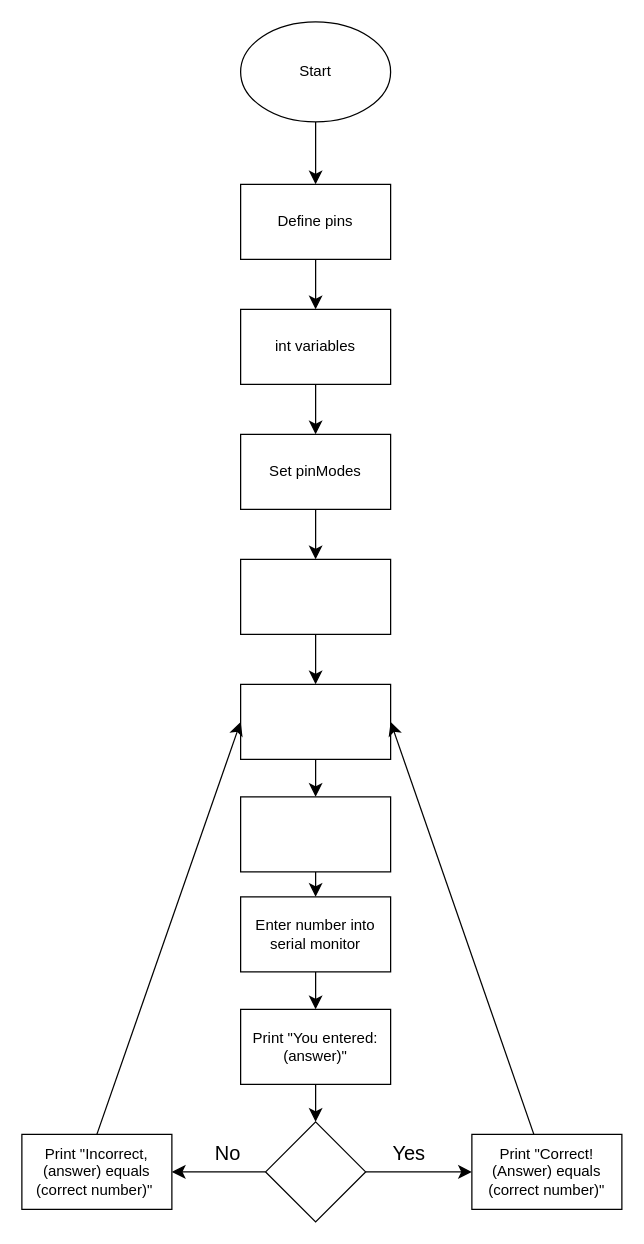
This 644x1244 diagram has some shape labels left out. The centre of each missing label's shape, as x and y in pixels:
Add randomSeed: the point at 315,596
Answer correct?: the point at 315,1171
Number 0-256 is displayed with LEDs: the point at 315,721
Print "What is binary number in base 10? ": the point at 315,834
